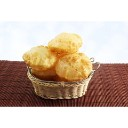poori: (57, 53, 92, 82), (49, 30, 83, 53), (22, 46, 57, 67)
